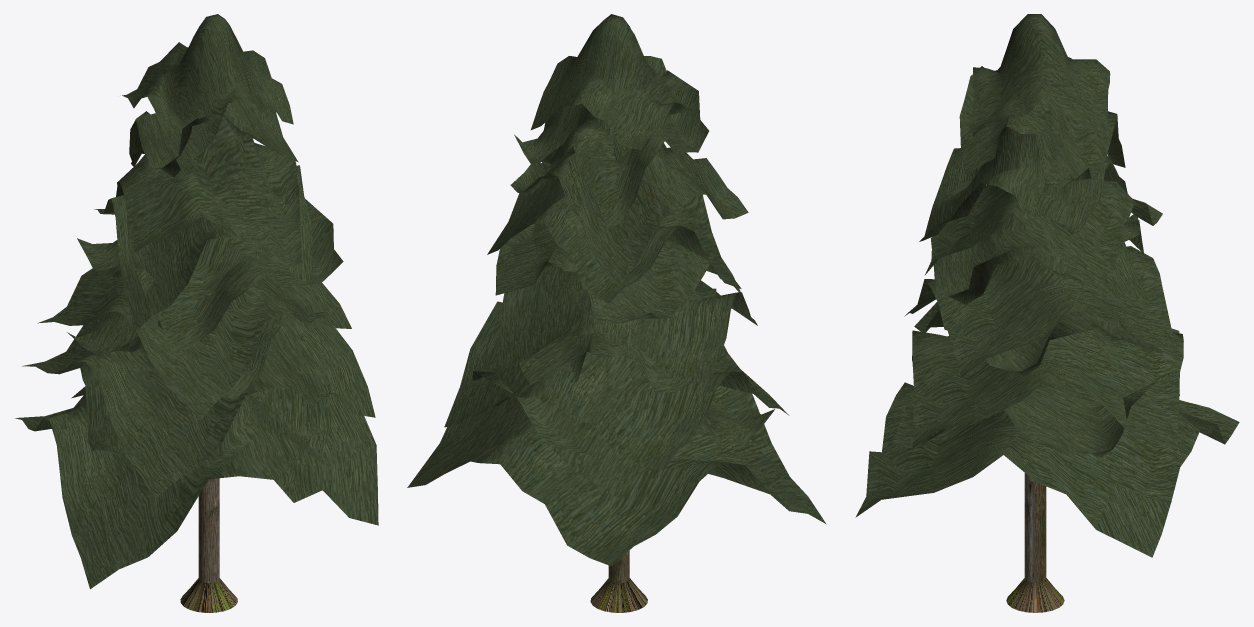
Rendered from Tree_Pine_Textured.fbx.
3 views of the same model, side by side, from view 1: azimuth 30°, elevation 25°; view 2: azimuth 150°, elevation 25°; view 3: azimuth 270°, elevation 25° (orthographic).
Parts seen in each view (by area): view 1: TreePine_Shrunk; view 2: TreePine_Shrunk; view 3: TreePine_Shrunk.
Boxes of the visible parts, x1,y1,x2,y2 form: TreePine_Shrunk: (15, 14, 378, 612); TreePine_Shrunk: (407, 14, 826, 612); TreePine_Shrunk: (855, 14, 1239, 612).
Size of the model in its own units: 2139 by 3739 by 2220.
Materials: 2 (2 with a texture image).
